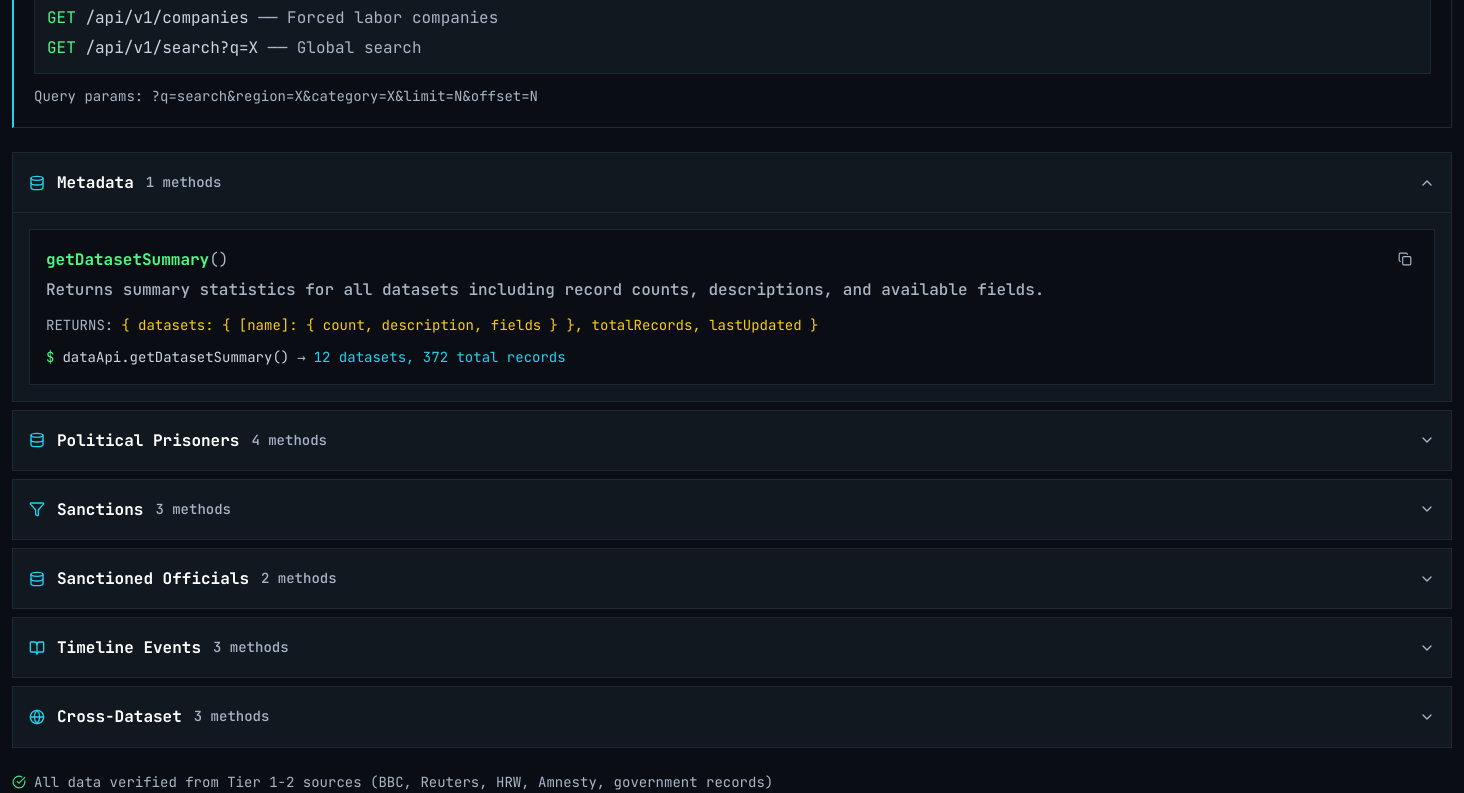
DataApiDocs › expands Timeline Events group when clicked
This screenshot has width=1464, height=793.
(page scrolled)
Click the text "Timeline Events": (129, 648) [57,634,201,661]
(page scrolled)
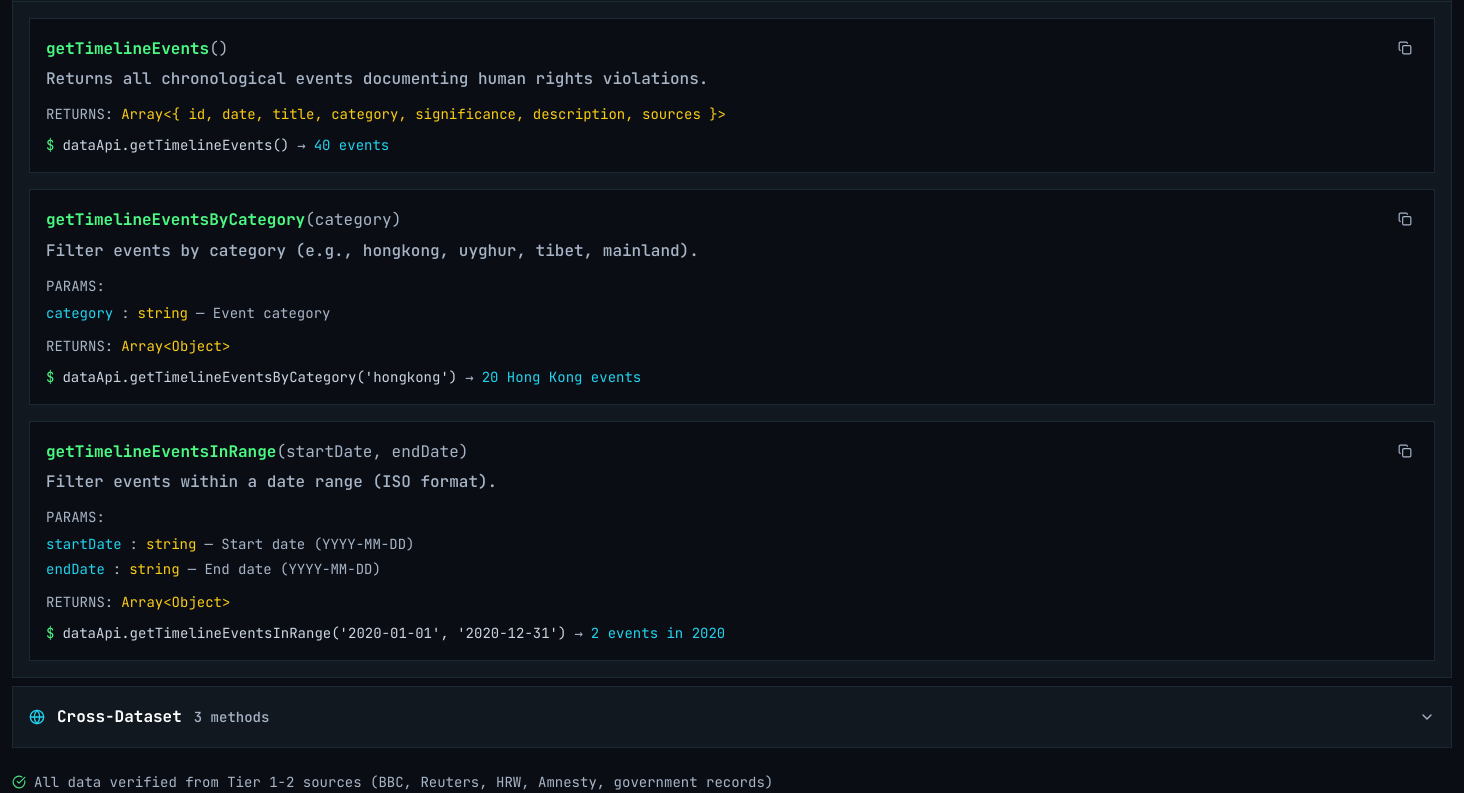
Expected: the text "getTimelineEvents" is shown, [46,38,209,59]
Expected: the text "getTimelineEventsByCategory" is shown, [46,209,305,230]
Expected: the text "getTimelineEventsInRange" is shown, [46,441,276,462]
